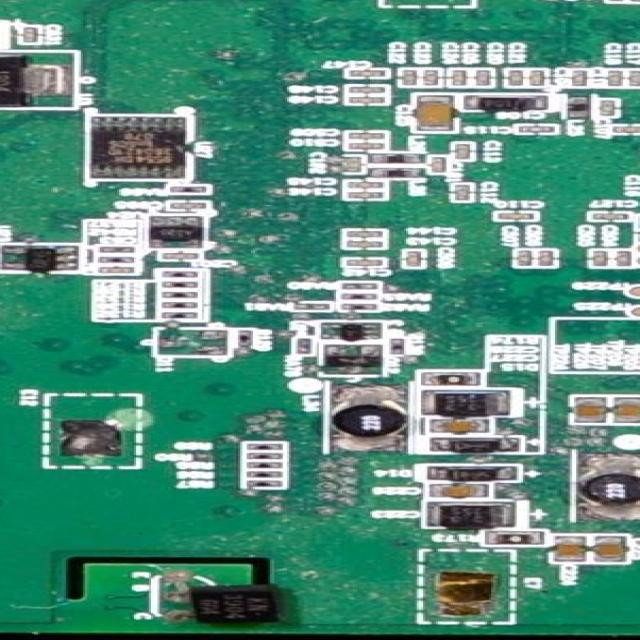IC: (89, 116, 190, 181), (0, 246, 79, 273), (155, 216, 205, 251), (321, 321, 385, 341)
capacitor: (428, 420, 506, 436), (555, 537, 586, 564), (576, 397, 607, 422), (430, 484, 488, 497), (593, 538, 624, 561), (612, 397, 640, 422), (400, 248, 423, 270), (448, 68, 471, 89), (346, 95, 389, 106), (342, 258, 387, 268), (527, 68, 549, 88), (612, 250, 636, 268), (512, 250, 536, 268), (589, 212, 631, 222), (506, 68, 528, 87), (342, 158, 366, 175), (398, 68, 420, 86), (421, 68, 440, 88), (474, 68, 493, 87), (346, 69, 386, 78), (518, 126, 558, 135), (342, 230, 382, 239), (538, 250, 558, 268), (342, 239, 386, 247), (346, 131, 384, 140), (170, 202, 211, 210), (344, 192, 384, 200), (455, 142, 473, 159), (346, 86, 384, 94), (455, 184, 474, 200), (498, 212, 536, 220), (610, 125, 640, 135), (600, 100, 617, 117), (572, 69, 588, 87), (608, 70, 624, 88), (593, 250, 609, 268), (342, 182, 380, 189), (430, 158, 447, 173), (348, 142, 386, 148), (100, 266, 137, 272), (629, 70, 640, 87), (608, 0, 625, 1)
resistor: (489, 532, 545, 545), (160, 270, 202, 280), (291, 303, 334, 312), (387, 337, 406, 357), (340, 292, 378, 301), (340, 303, 382, 311), (245, 452, 287, 460), (340, 284, 380, 292), (242, 444, 282, 452), (249, 480, 288, 488), (296, 338, 313, 356), (162, 282, 200, 290), (100, 246, 135, 254), (160, 291, 200, 298), (244, 472, 281, 479), (160, 303, 200, 309), (244, 462, 284, 468), (238, 330, 253, 345), (164, 312, 197, 318), (102, 258, 136, 262), (631, 0, 640, 5)
transistor: (321, 346, 386, 376)
